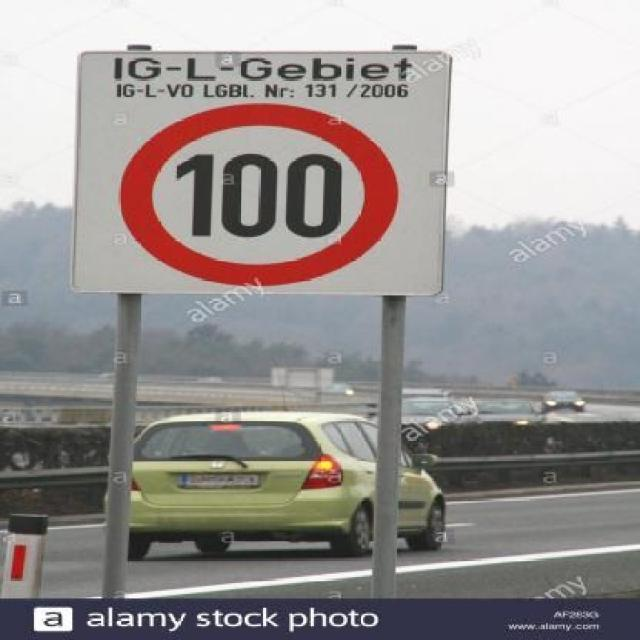forb_speed_over_100: (123, 105, 397, 286)
